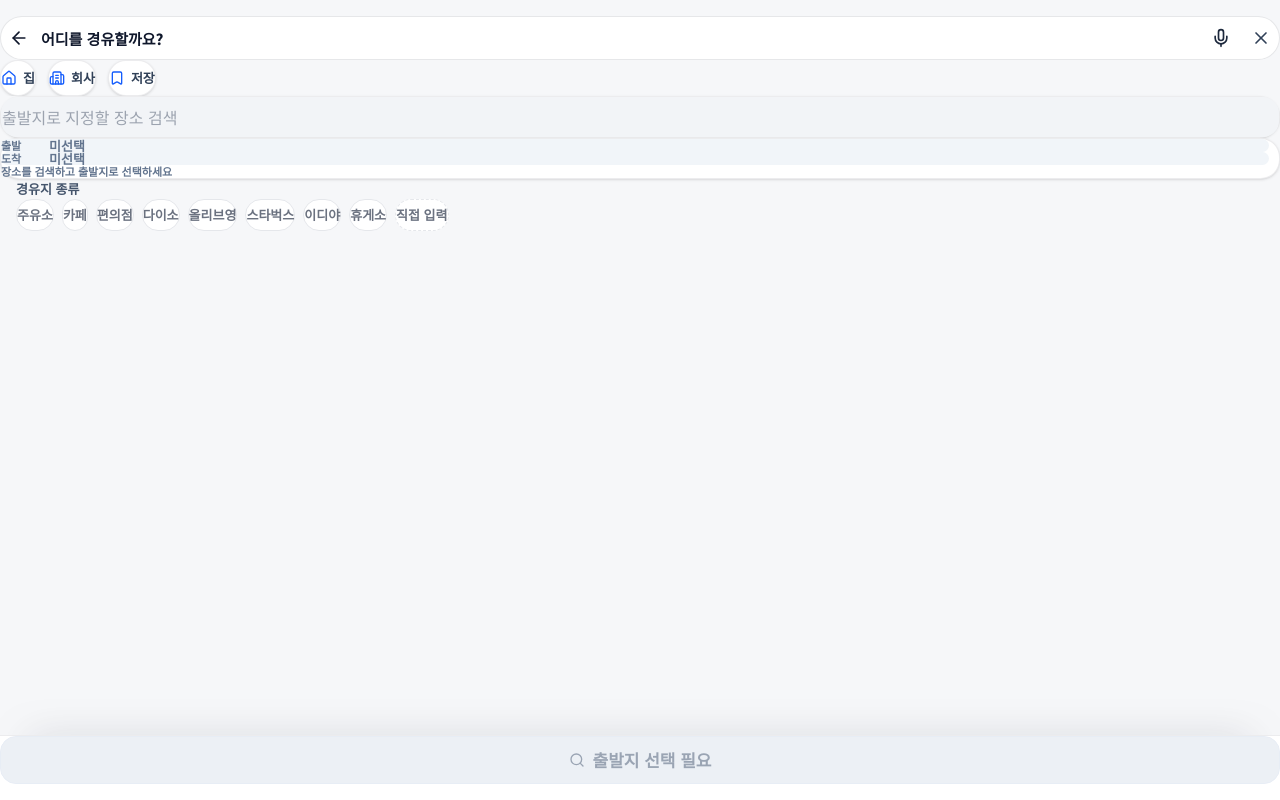
SearchOverlay › 직접 입력 토글 클릭 시 카테고리 입력 필드가 나타남
Click the button with test id "custom-category-toggle" at (422,215), box [395,199,449,231]
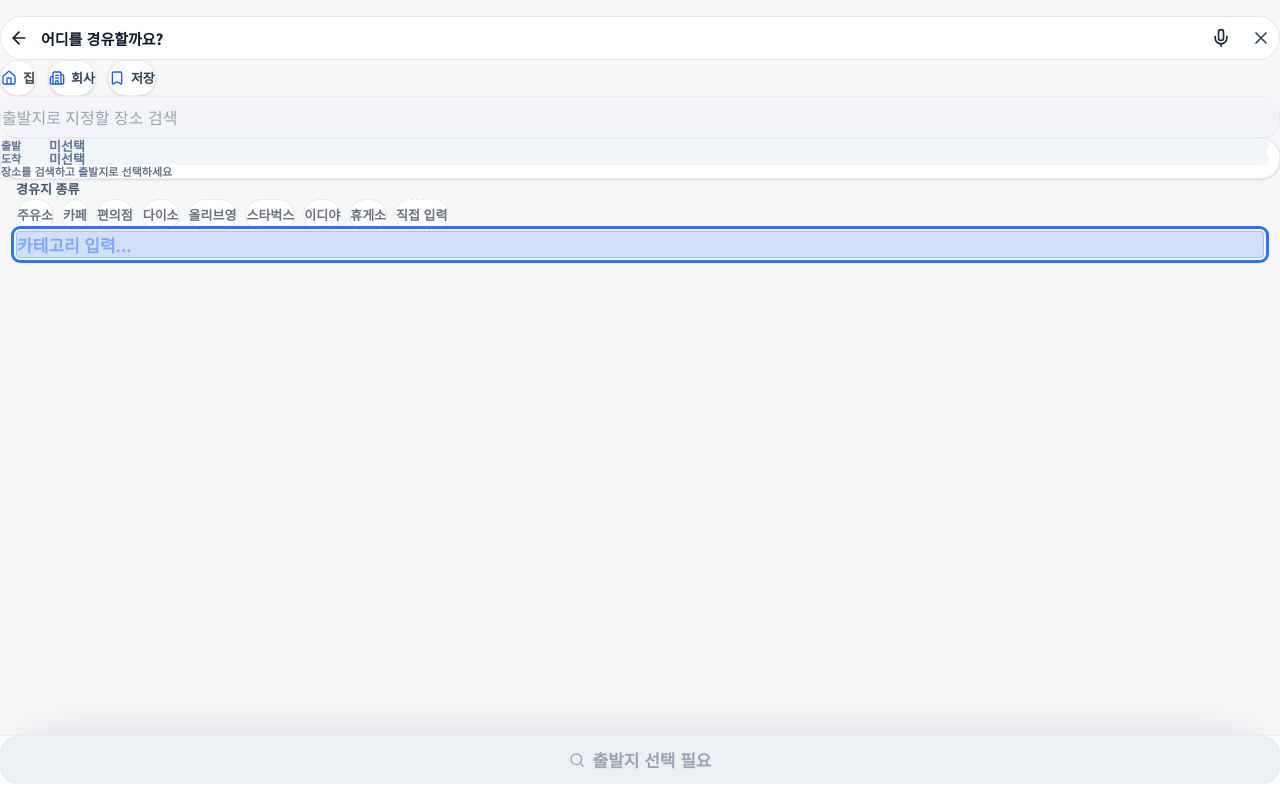
Expected: the field with test id "custom-category-input" is shown, [16,231,1264,258]
